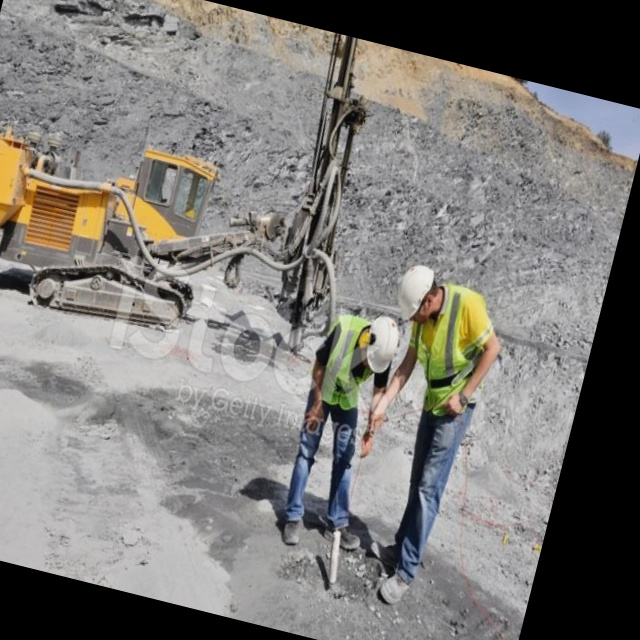Con_Chaleco: (406, 280, 507, 419), (311, 309, 379, 413)
